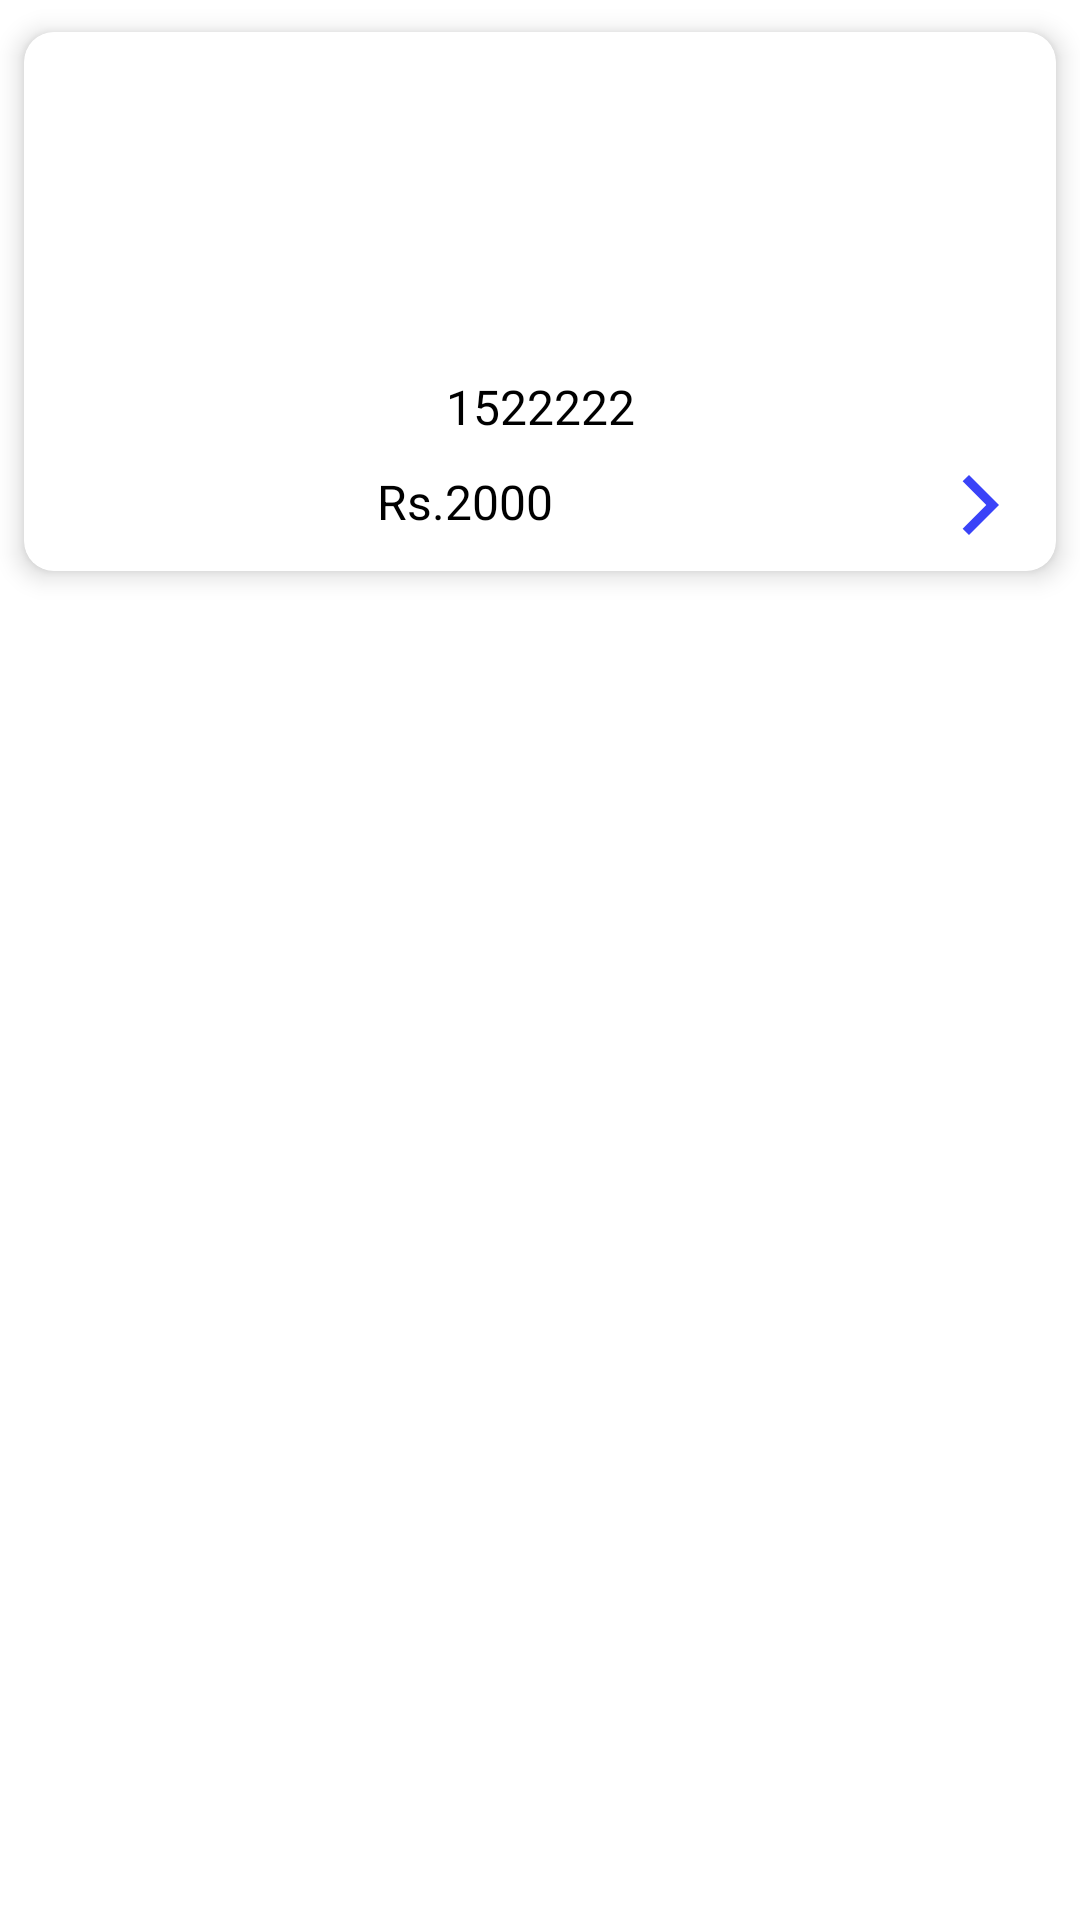

Where icons sit on this 1080w x 1920h app screen, as (x1, y1, x2, y2):
arrow forward: (963, 475, 999, 535)
